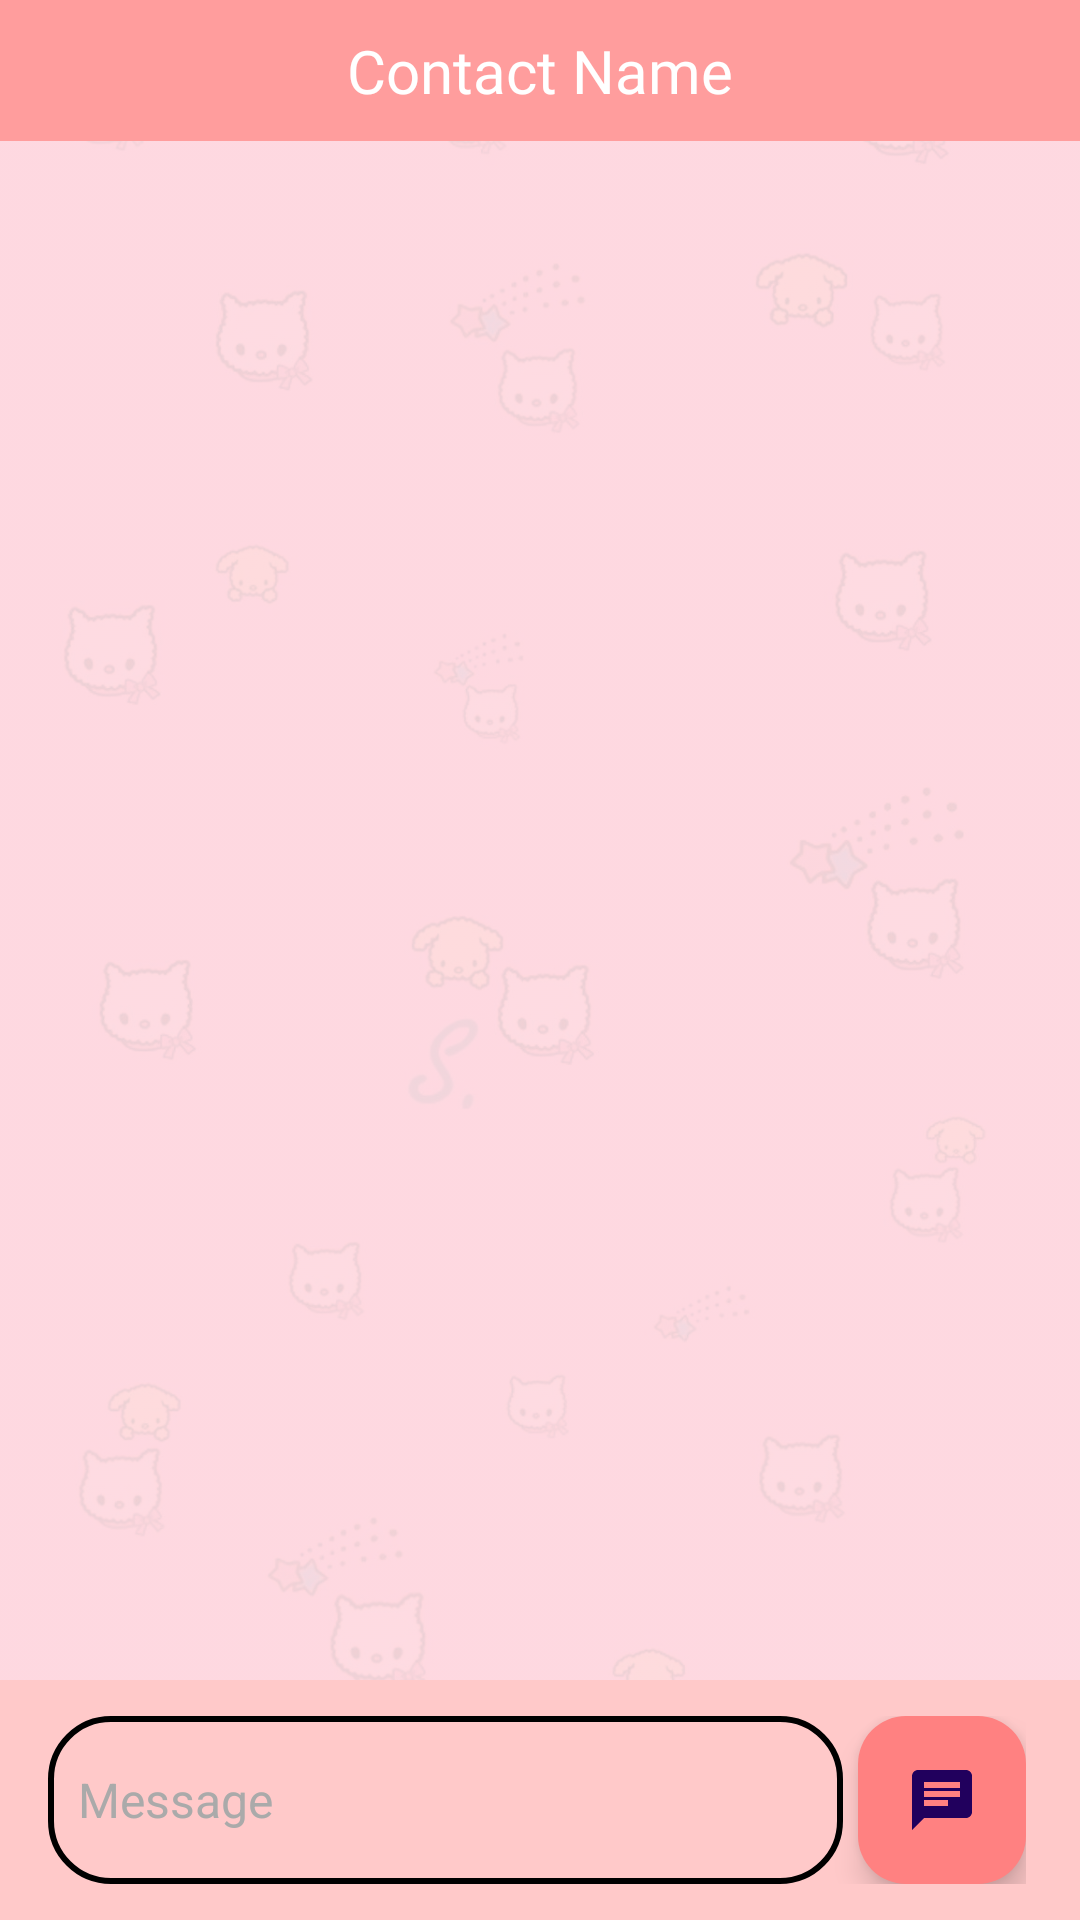

Point at icon controls on the screen. Image size 1080 × 1920, points as [x,y].
chat: [942,1800]
